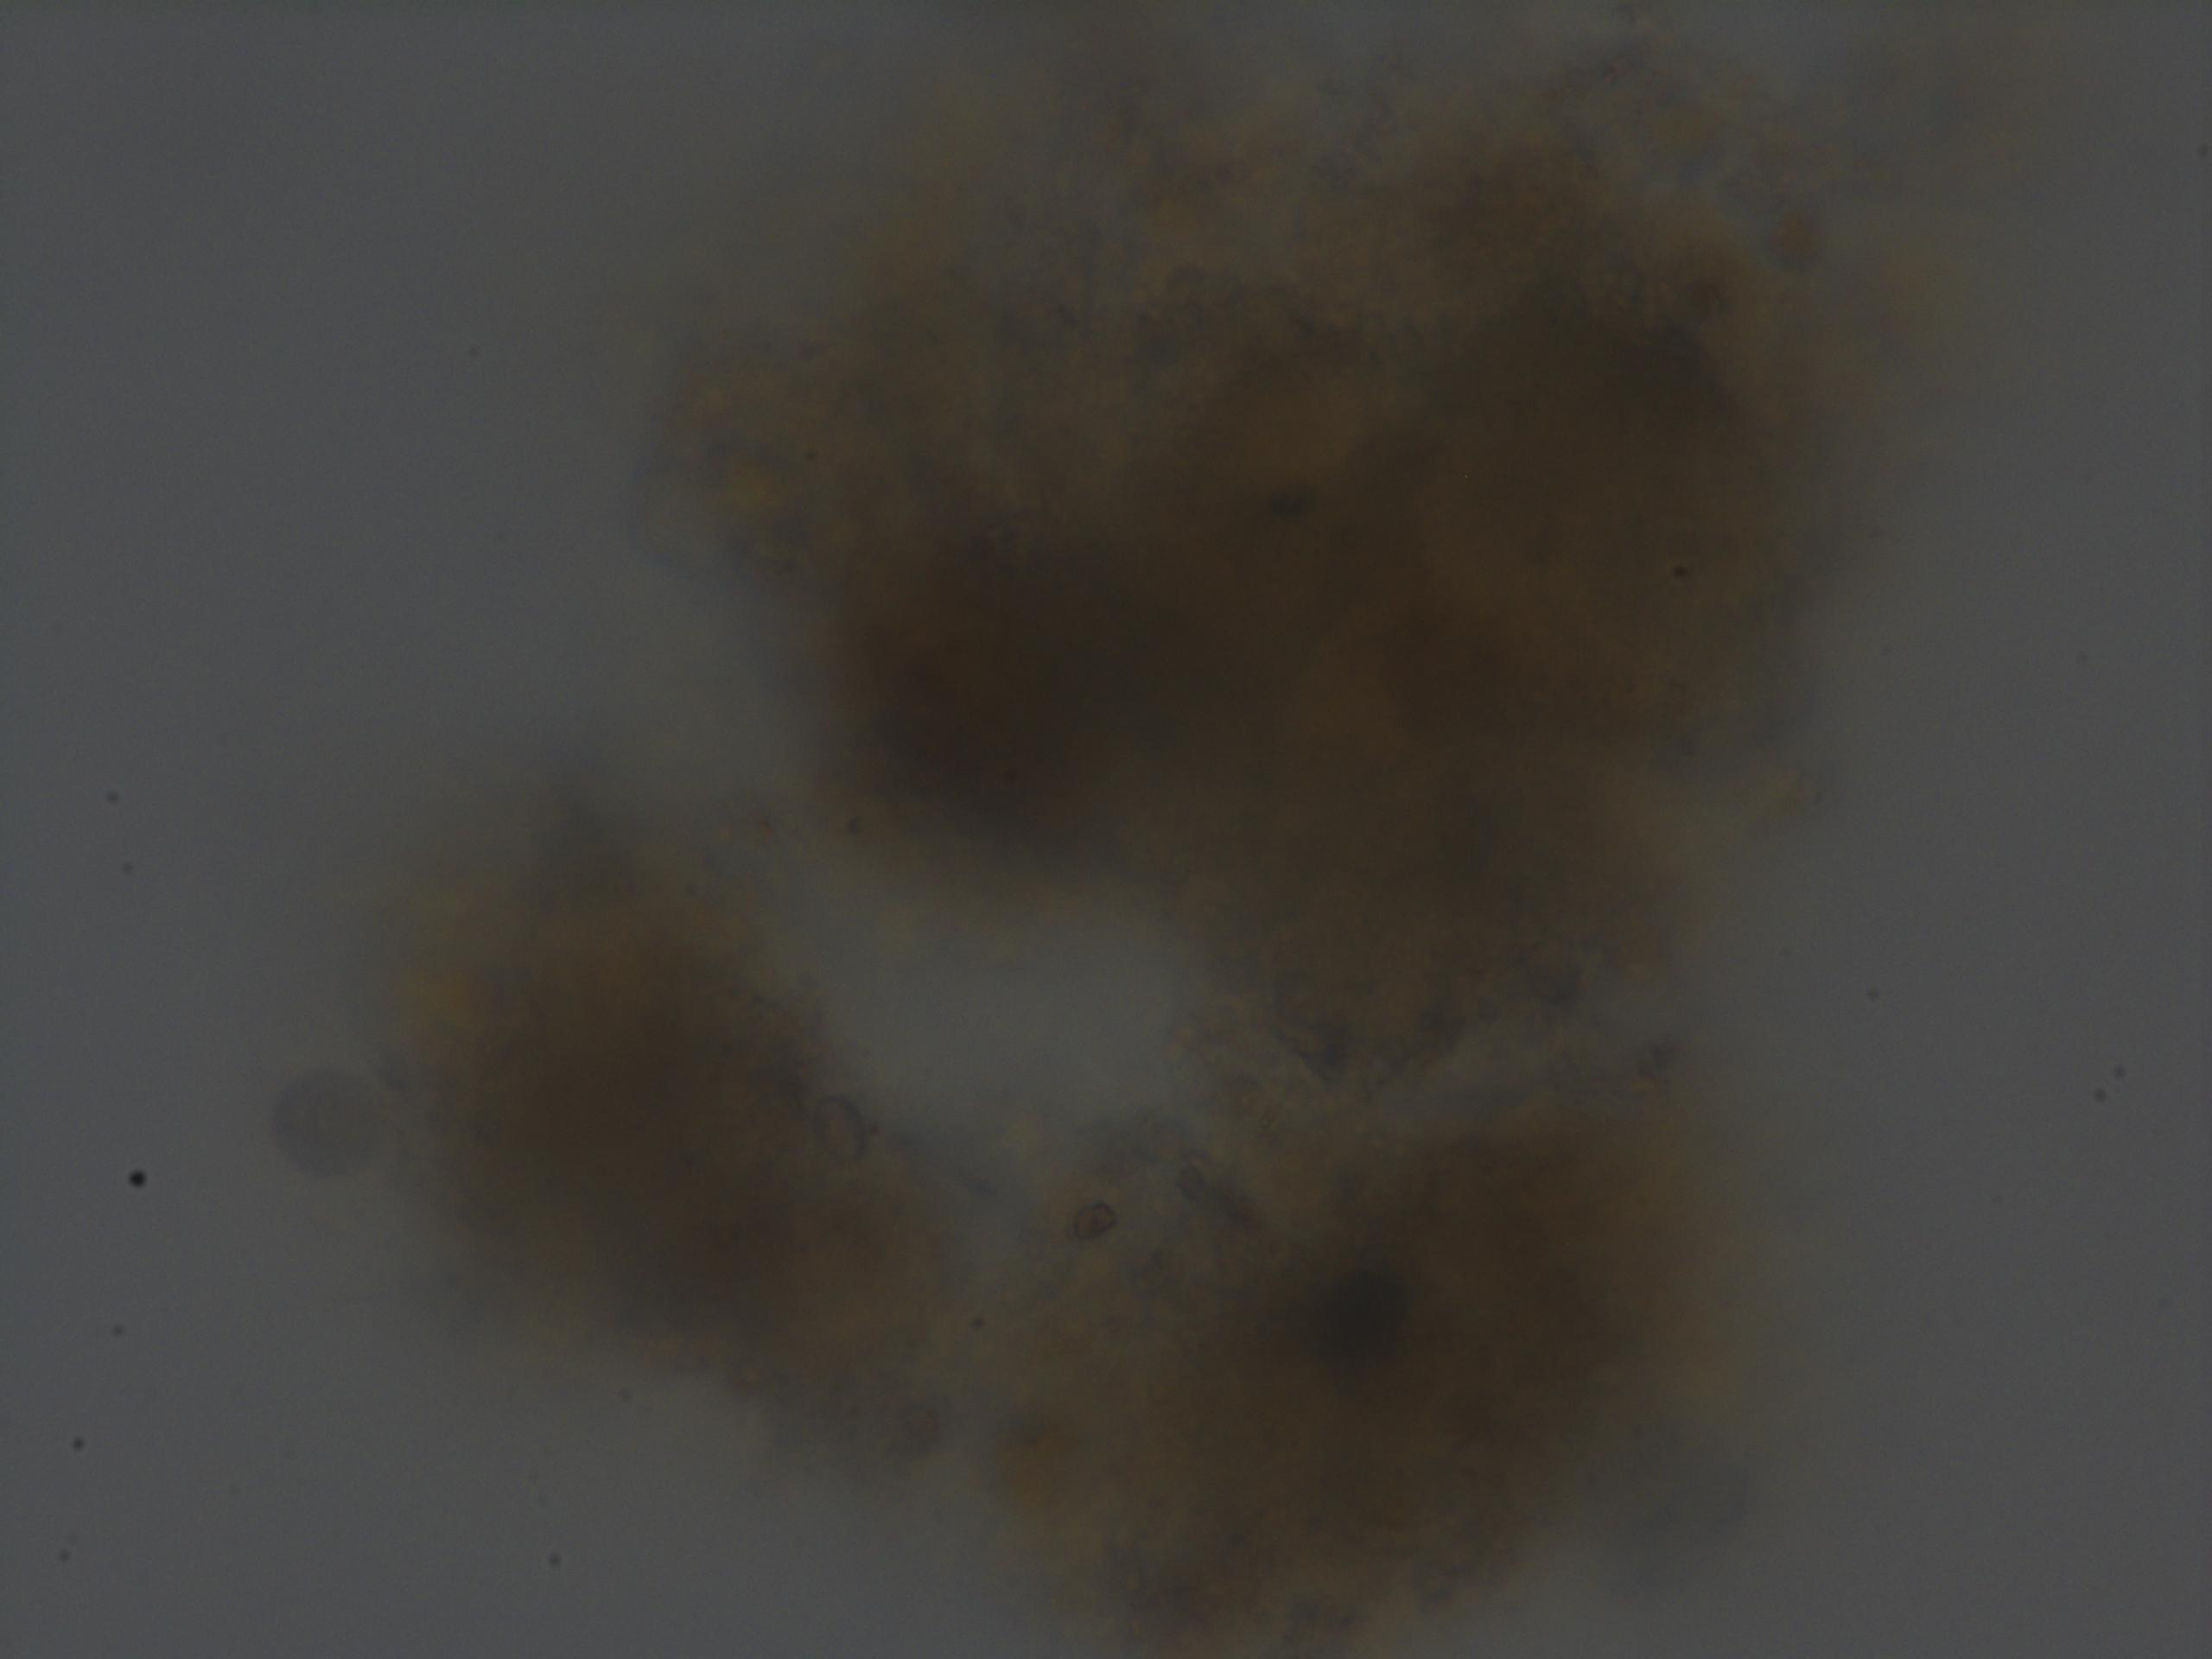open_floc: (392, 0, 1832, 1659)
